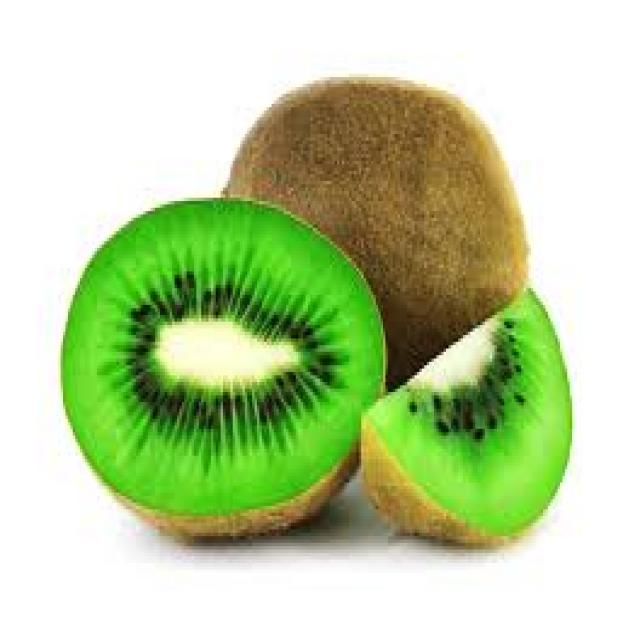kiwi: (56, 191, 388, 539), (223, 70, 548, 358), (368, 285, 582, 553)
